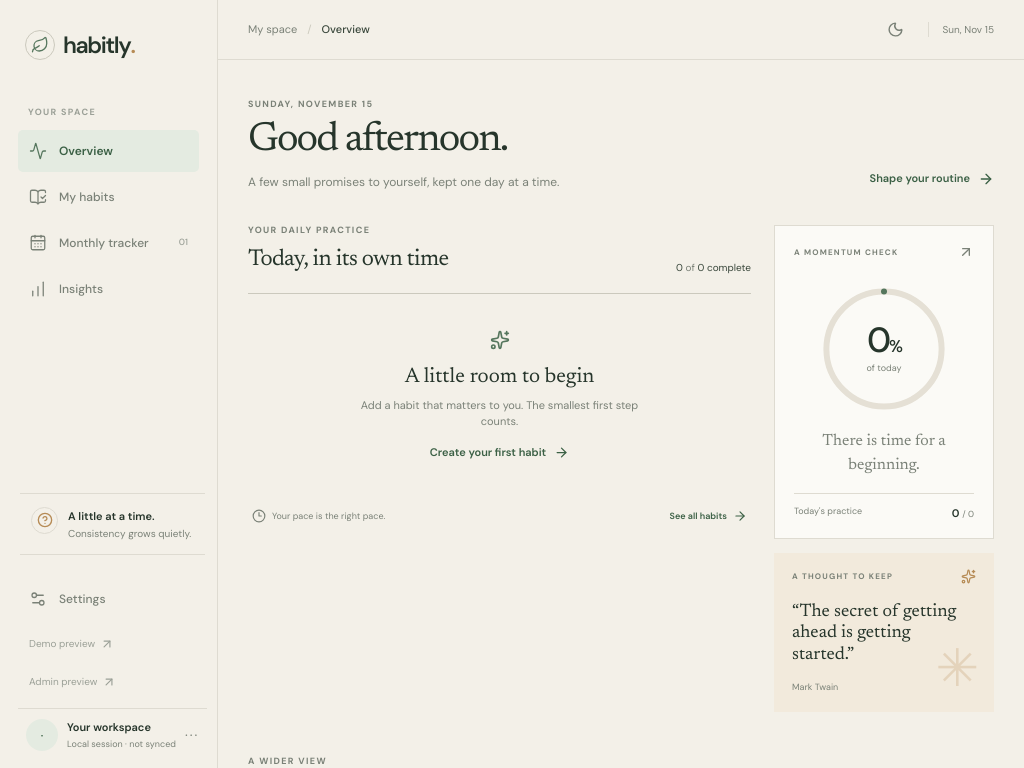
Test case: Habitly frontend › starts with an empty normal workspace and no demo profile
This screenshot has width=1024, height=768.
expect the button with aria-label "Local workspace" is shown: met, box [18,708,207,752]
Step 1. Click the link "My habits" → [72, 197], box [29,188,114,206]
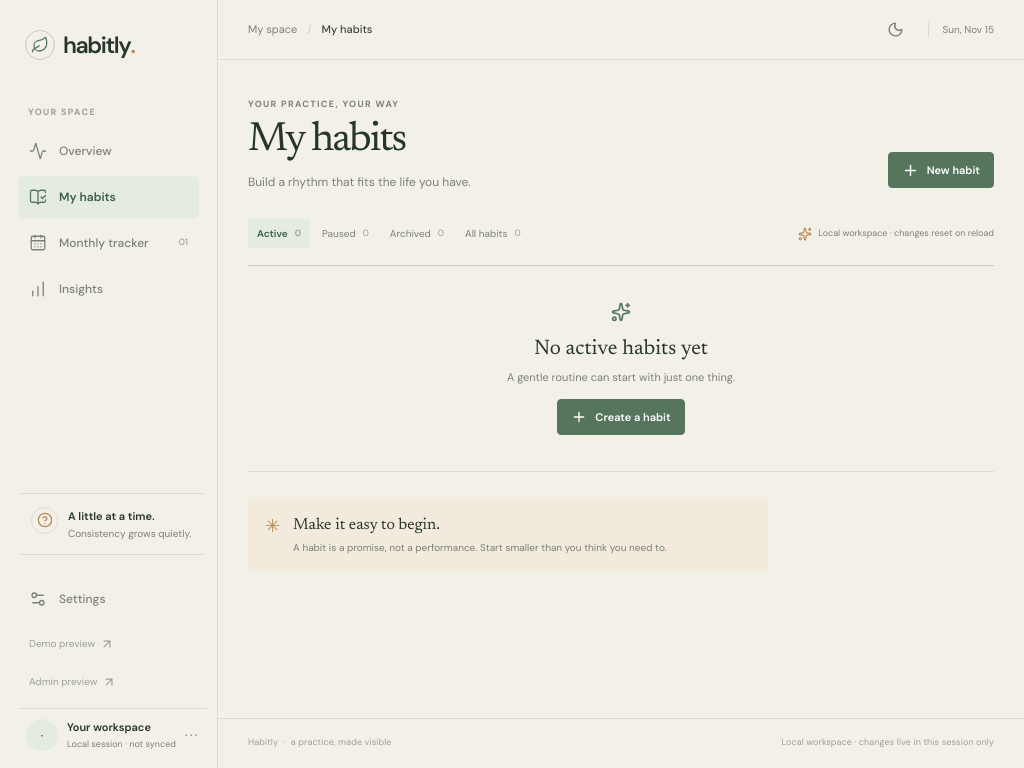
expect the heading "No active habits yet" is shown: met, box [534,334,708,366]
